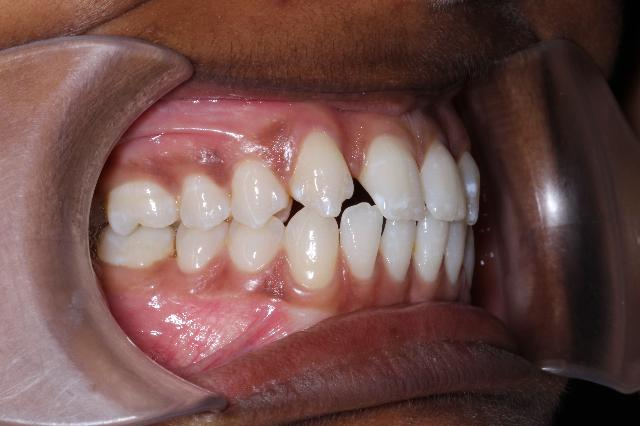canine class II 3/4: (226, 121, 356, 296)
molar class II 3/4: (94, 172, 182, 282)
